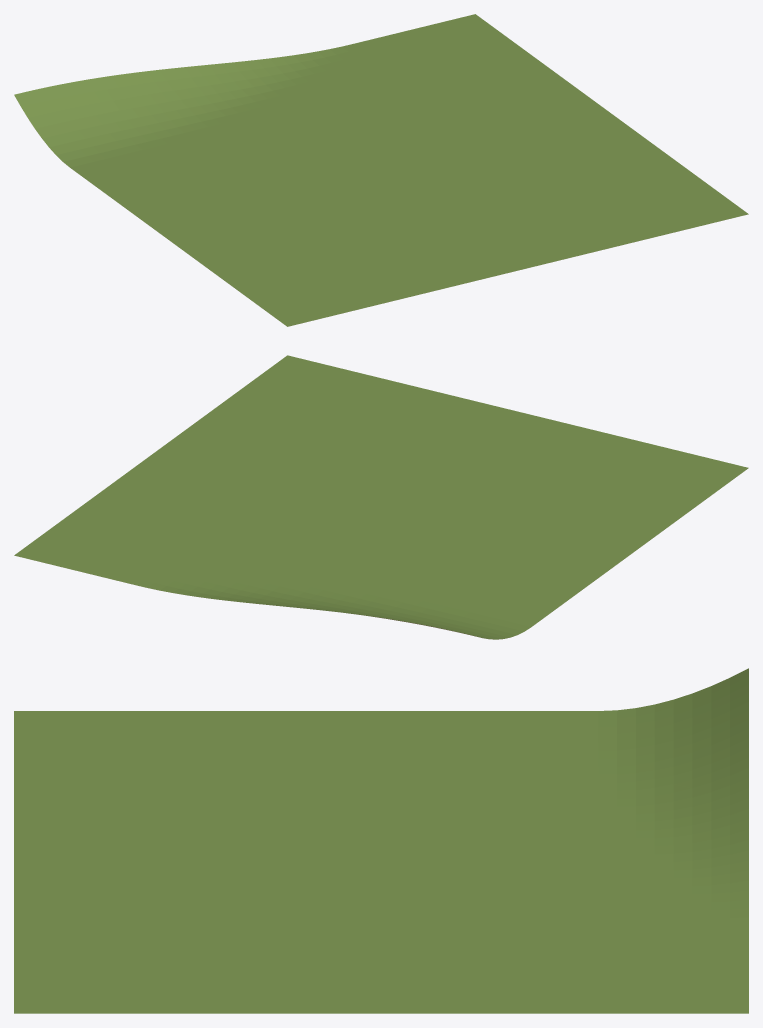
File: region_3_2.glb
3 renders of one model, top to bottom at view 1: azimuth 30°, elevation 25°; view 2: azimuth 150°, elevation 25°; view 3: azimuth 270°, elevation 25°, orthographic. The views are drawn at different scales.
Visible parts, largest first — view 1: OD_Meadow.032; view 2: OD_Meadow.032; view 3: OD_Meadow.032.
Boxes of the visible parts, x1,y1,x2,y2 form: OD_Meadow.032: [14, 14, 748, 326]; OD_Meadow.032: [14, 355, 748, 639]; OD_Meadow.032: [14, 668, 748, 1013].
Bounding box in the file's own units: 31.52 × 2.09 × 32.35.
